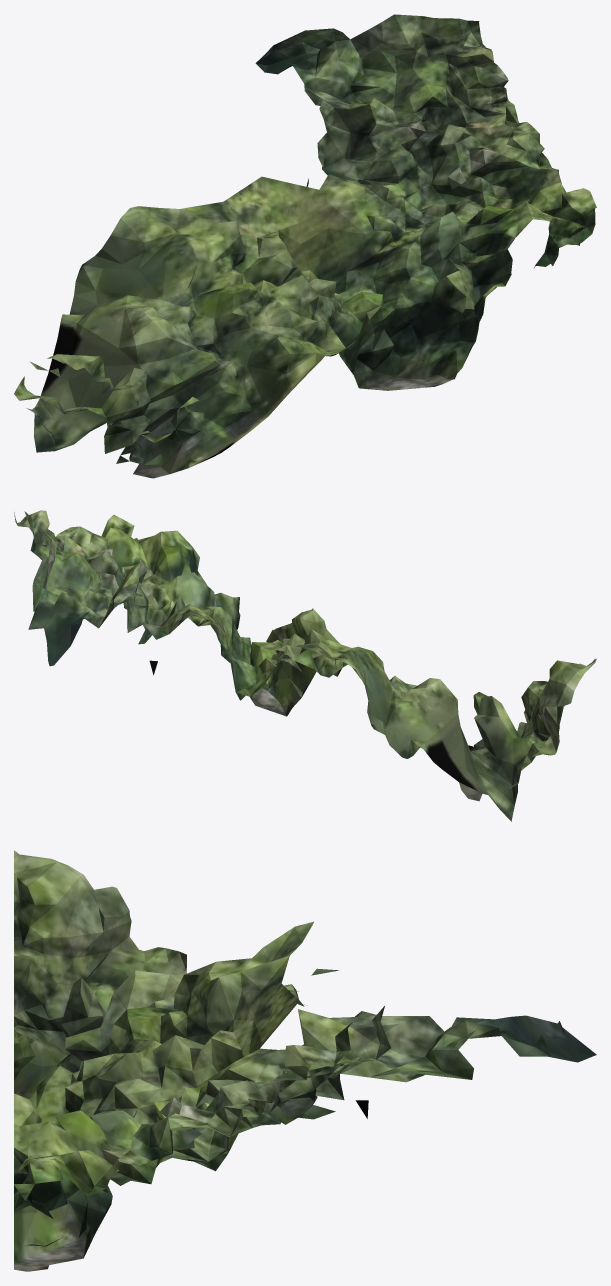
The picture shows the model from 3 angles, top to bottom: view 1: azimuth 30°, elevation 25°; view 2: azimuth 150°, elevation 25°; view 3: azimuth 270°, elevation 25°; orthographic projection. The views are drawn at different scales.
Bounding box in the file's own units: 209 × 108 × 143.
Materials: 2 (2 with a texture image).
